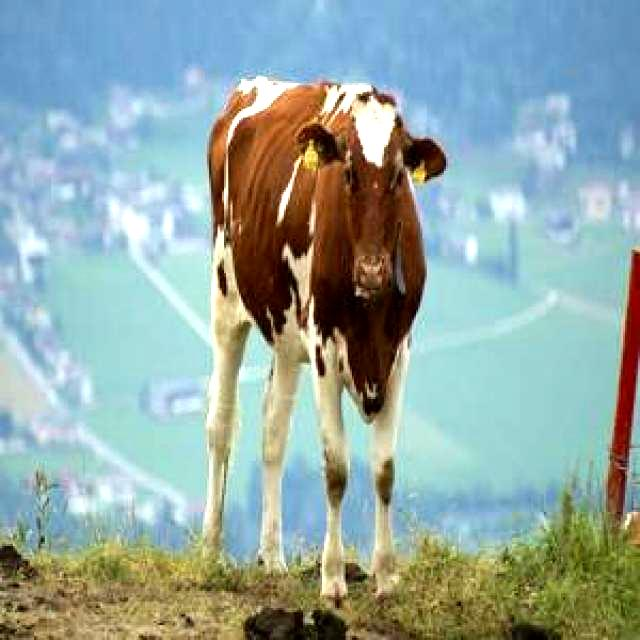COW: (204, 78, 446, 598)
